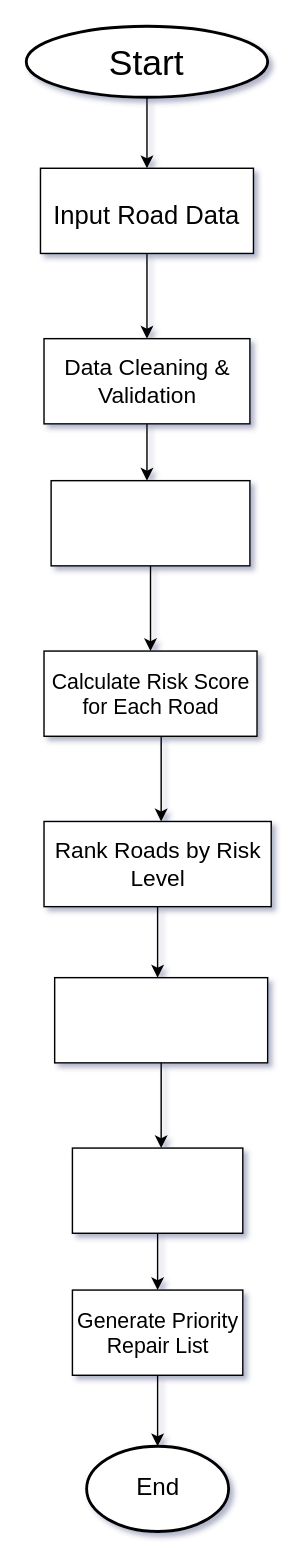
Some shapes in this 304 by 1565 pixel diagram are drawn without their labels. The box of each missing label's shape, as (x1, y1, x2, y2) in pixels:
Analyze Risk Factors: (50, 479, 250, 566)
Input Available Maintenance Budget: (53, 976, 268, 1063)
Select Roads Within Budget: (71, 1147, 243, 1233)
